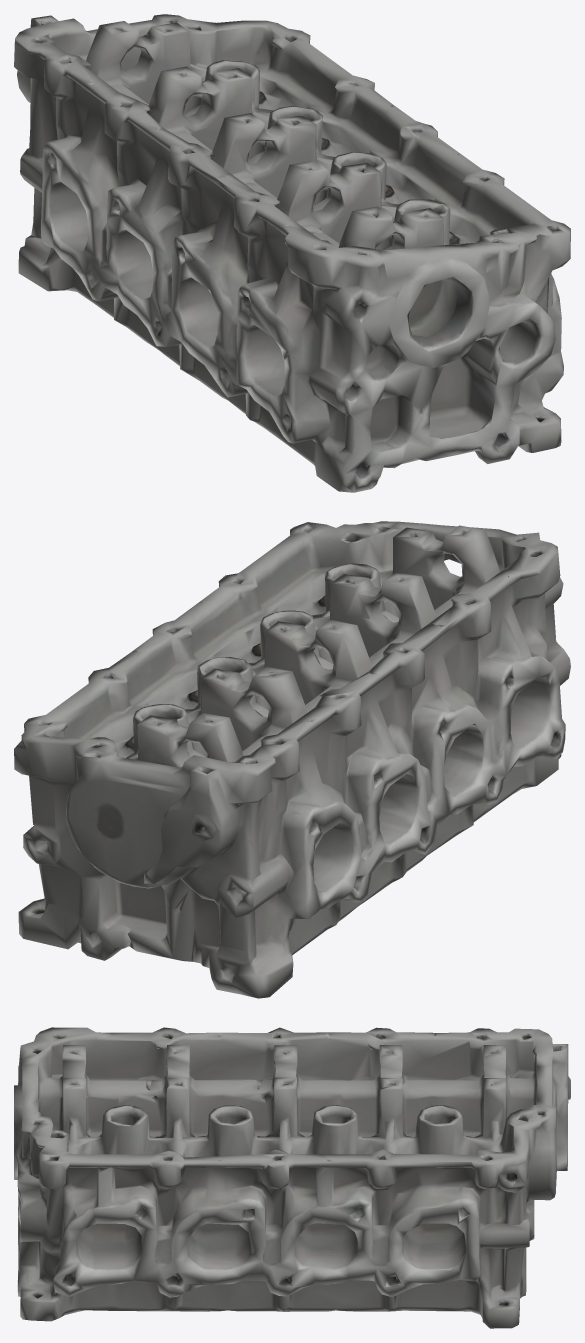
File: cylinder-head.glb
3 renders of one model, top to bottom at view 1: azimuth 30°, elevation 25°; view 2: azimuth 150°, elevation 25°; view 3: azimuth 270°, elevation 25°, orthographic. The views are drawn at different scales.
Visible parts, largest first — view 1: tripo_node_da409ed3-a0e5-4d0e-b16f-2b6a73d7e6bd; view 2: tripo_node_da409ed3-a0e5-4d0e-b16f-2b6a73d7e6bd; view 3: tripo_node_da409ed3-a0e5-4d0e-b16f-2b6a73d7e6bd.
Boxes of the visible parts, x1=… form: tripo_node_da409ed3-a0e5-4d0e-b16f-2b6a73d7e6bd: x1=14, y1=14, x2=570, y2=492; tripo_node_da409ed3-a0e5-4d0e-b16f-2b6a73d7e6bd: x1=14, y1=521, x2=570, y2=998; tripo_node_da409ed3-a0e5-4d0e-b16f-2b6a73d7e6bd: x1=14, y1=1027, x2=570, y2=1328.
Size of the model in its own units: 0.4708 by 0.4087 by 1.
1 material, 1 textured.
